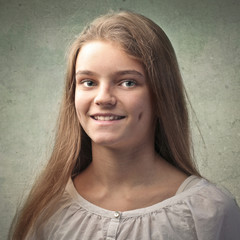teen: (69, 21, 160, 147)
